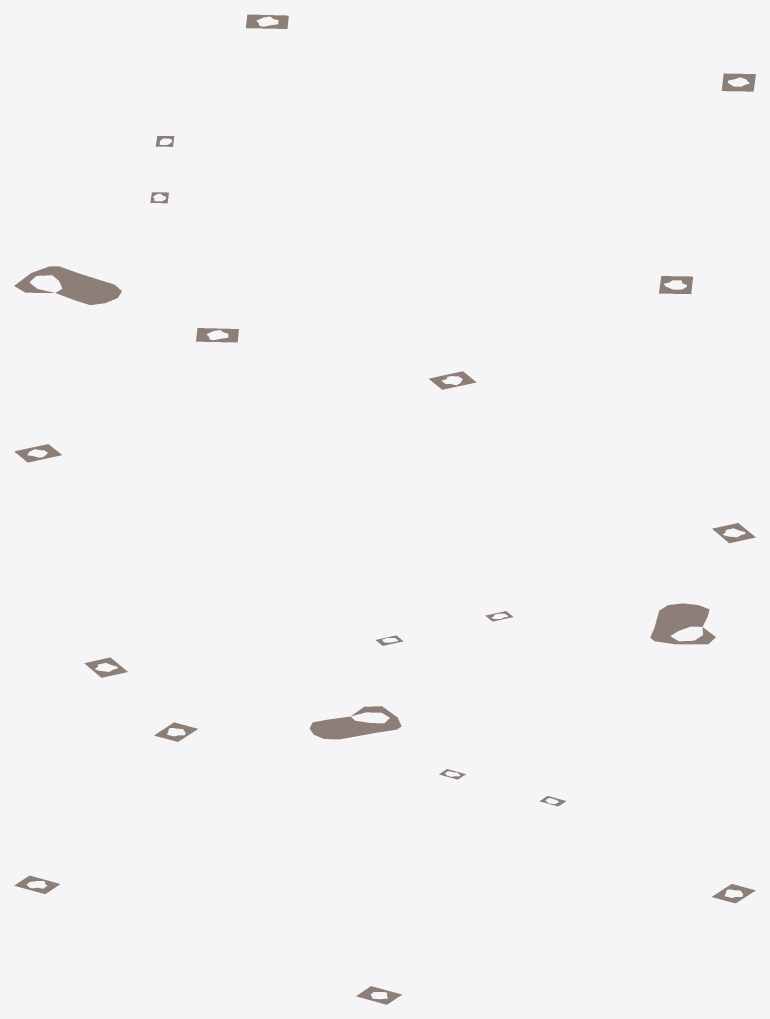
Rendered from kd_stage_1363c5_11_18.glb.
3 renders of one model, top to bottom at view 1: azimuth 30°, elevation 25°; view 2: azimuth 150°, elevation 25°; view 3: azimuth 270°, elevation 25°, orthographic. The views are drawn at different scales.
Parts seen in each view (by area): view 1: kd_stage_1363c5_11_18; view 2: kd_stage_1363c5_11_18; view 3: kd_stage_1363c5_11_18.
Part boxes in pixels (box(x1,y1,x2,y2)): kd_stage_1363c5_11_18: box(14, 14, 755, 342); kd_stage_1363c5_11_18: box(14, 371, 755, 677); kd_stage_1363c5_11_18: box(14, 706, 755, 1004).
Bounding box in the file's own units: 36.44 × 1.31 × 35.3.
1 material, 1 textured.
